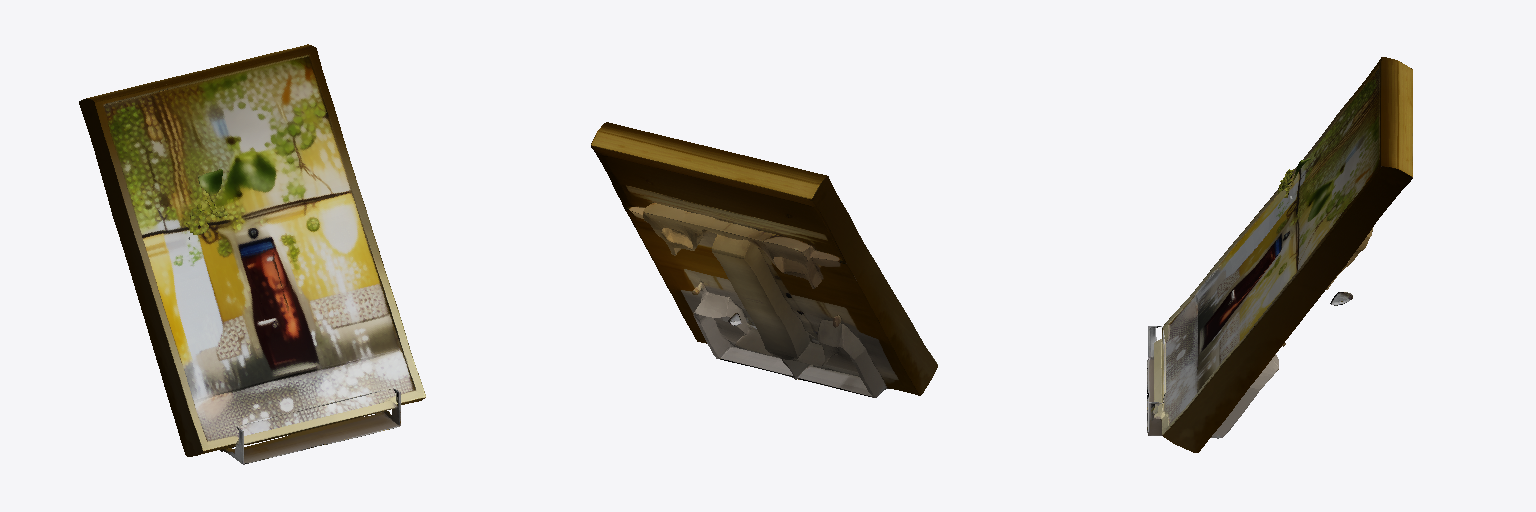
The picture shows the model from 3 angles: view 1: azimuth 30°, elevation 25°; view 2: azimuth 150°, elevation 25°; view 3: azimuth 270°, elevation 25°; orthographic projection.
Visible parts, largest first — view 1: geometry_0; view 2: geometry_0; view 3: geometry_0.
Part boxes in pixels (x1,y1,x2,y2): geometry_0: (79,44,425,464); geometry_0: (591,122,937,397); geometry_0: (1147,57,1412,452).
Size of the model in its own units: 0.7999 by 0.99 by 0.8253.
1 materials, 1 textured.